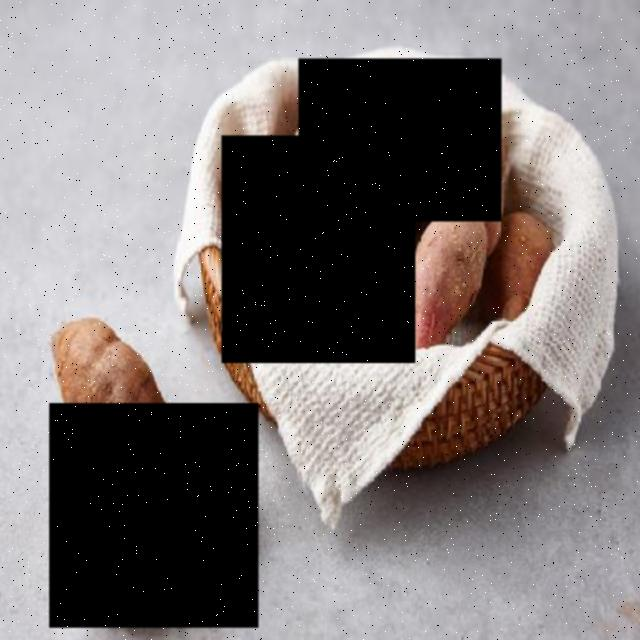Sweet_Potato: (50, 403, 258, 628), (222, 136, 416, 362), (300, 58, 502, 222)
